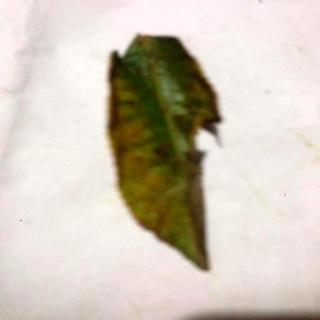Red Leaf Spot: (110, 36, 211, 272)
